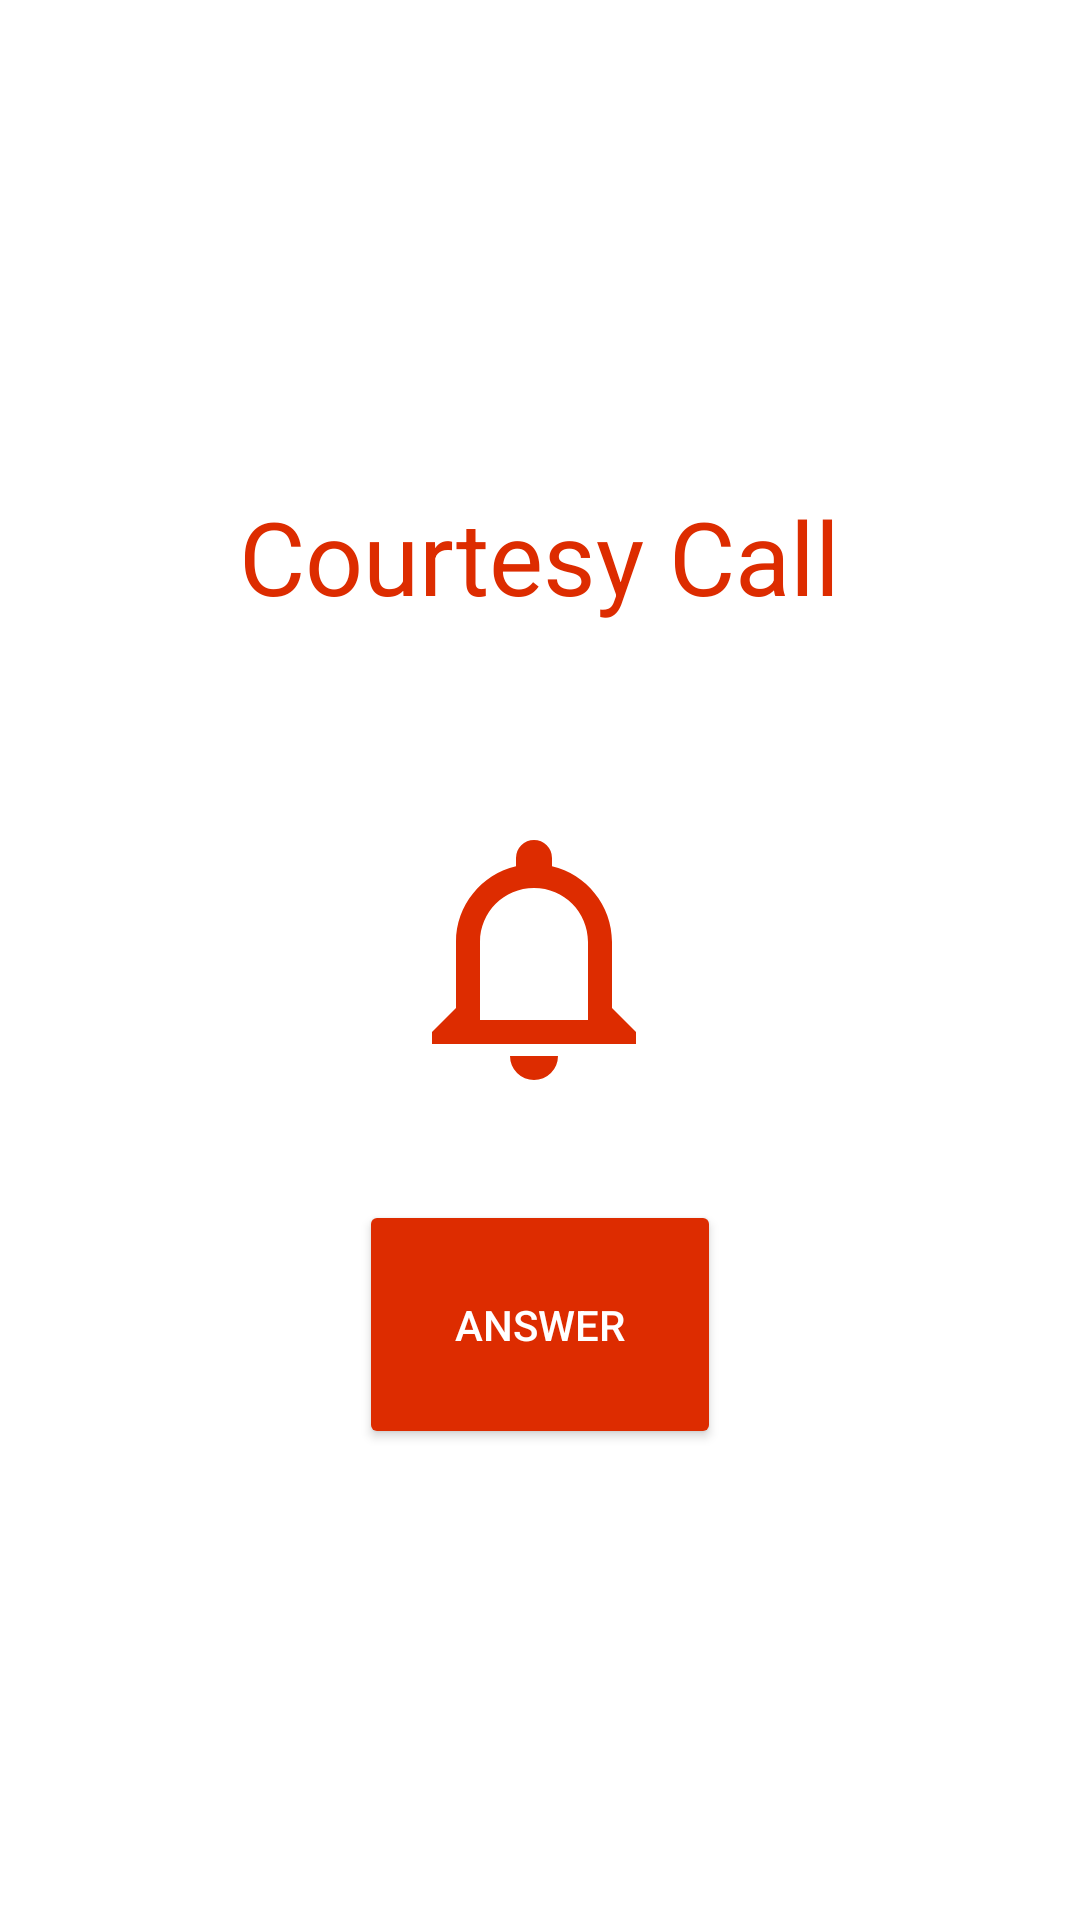

Icon click points for this 1080*1920 phone screenshot, format point (x, y):
bell: point (534, 960)
